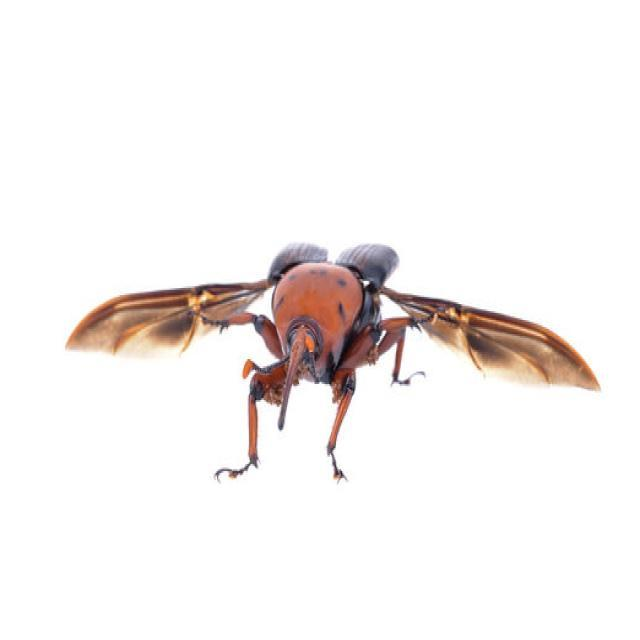Red-palm-weevil: (63, 235, 589, 446)
